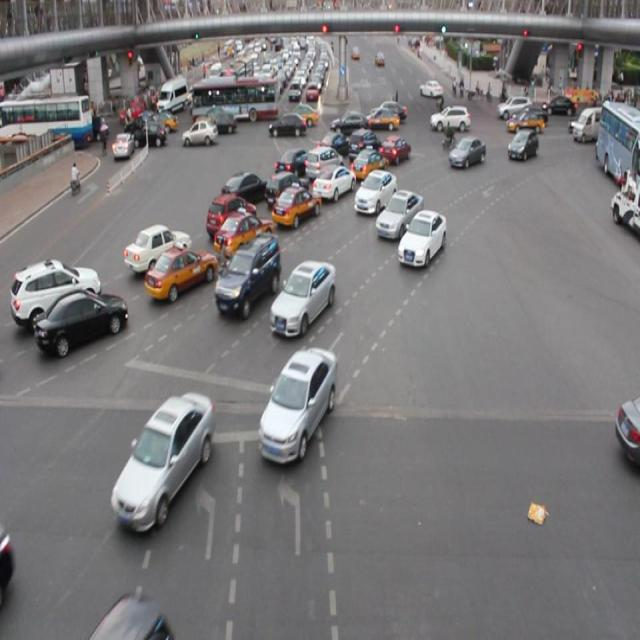car: (115, 392, 214, 527), (258, 345, 335, 463), (34, 286, 126, 354), (11, 262, 101, 323), (215, 233, 279, 316), (270, 260, 336, 335), (90, 595, 180, 640), (144, 245, 216, 301), (124, 222, 192, 273), (212, 212, 272, 262), (396, 210, 446, 266), (374, 188, 422, 239), (271, 186, 320, 229), (206, 195, 256, 236), (354, 166, 395, 216), (616, 394, 640, 468), (311, 164, 355, 203), (264, 170, 309, 208), (223, 171, 264, 207), (349, 146, 388, 181), (272, 145, 311, 180), (448, 135, 483, 170), (347, 126, 380, 163), (506, 126, 537, 164), (378, 134, 411, 167), (318, 128, 349, 160)
truck: (305, 145, 342, 181)
